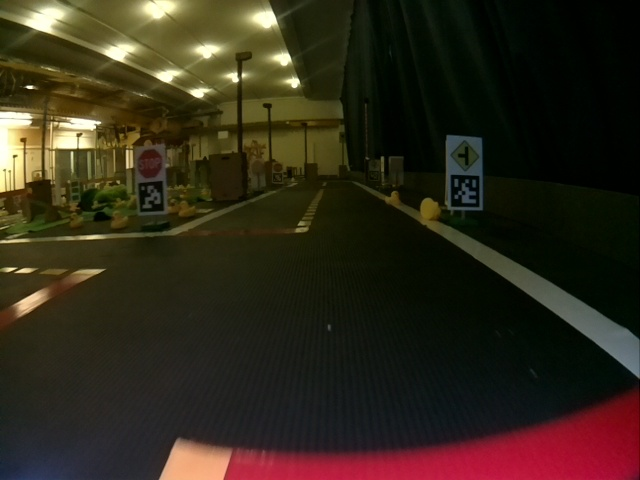Duckie: (420, 198, 441, 219), (111, 211, 128, 229), (179, 202, 196, 217), (387, 191, 400, 205), (71, 215, 83, 228)
Intersection sign: (448, 140, 482, 169)
QR code: (451, 175, 479, 207), (139, 182, 165, 211), (273, 176, 282, 182)
Stop sign: (136, 148, 164, 178)
